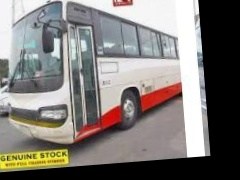bus: (0, 0, 185, 147)
